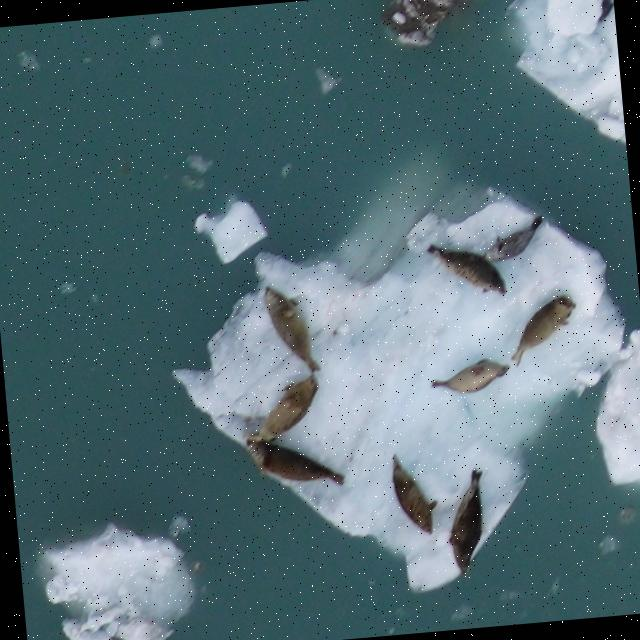seal: (242, 430, 351, 496), (437, 461, 498, 577), (259, 277, 324, 381), (237, 372, 325, 447), (504, 291, 585, 368), (424, 236, 510, 305), (385, 444, 443, 541), (472, 213, 552, 269), (426, 352, 514, 398)
